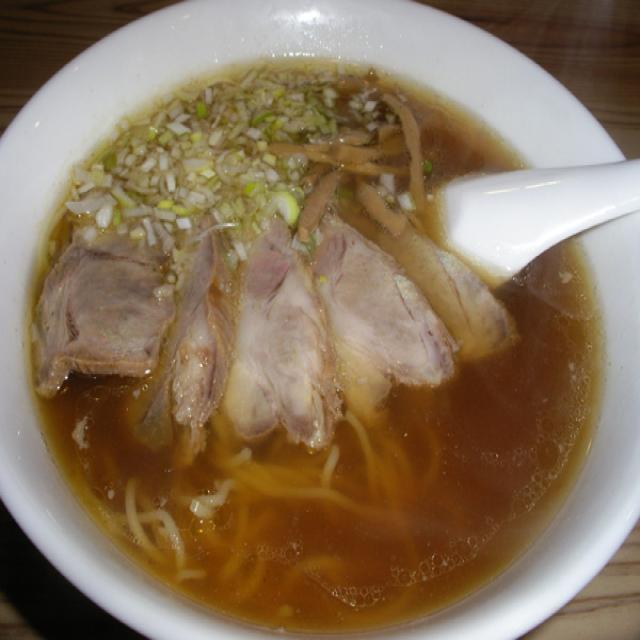面条主食: (21, 51, 598, 620)
